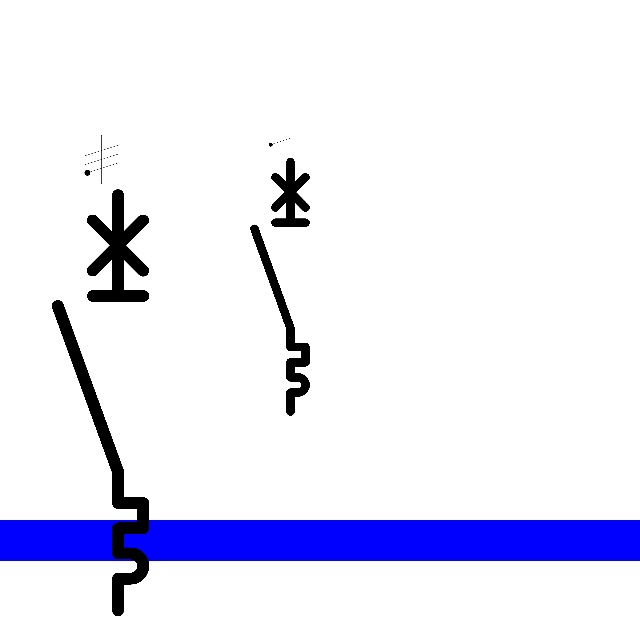interruptor_termomagnetico: (47, 184, 154, 620), (248, 155, 312, 417)
